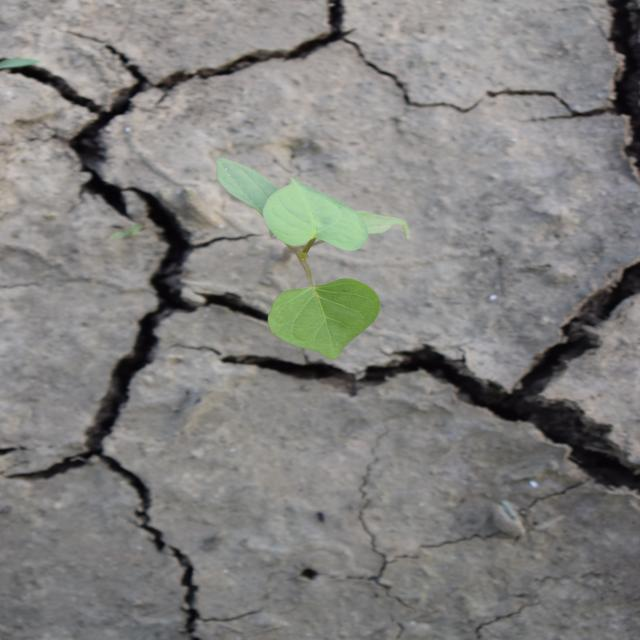MorningGlory: (214, 155, 412, 362)
